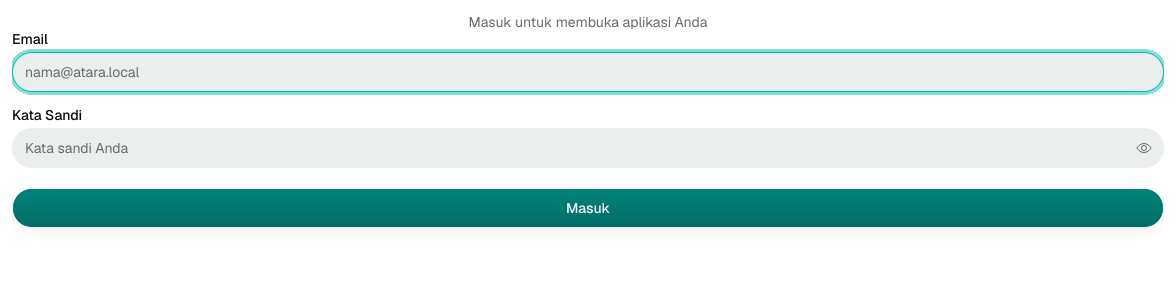
Test case: LoginForm › announces a failure rather than only recolouring it
The width and height of the screenshot is (1176, 299).
Type "admin@atara.local" into the field labelled "Email". click: (588, 72)
box: [12,52,1164,92]
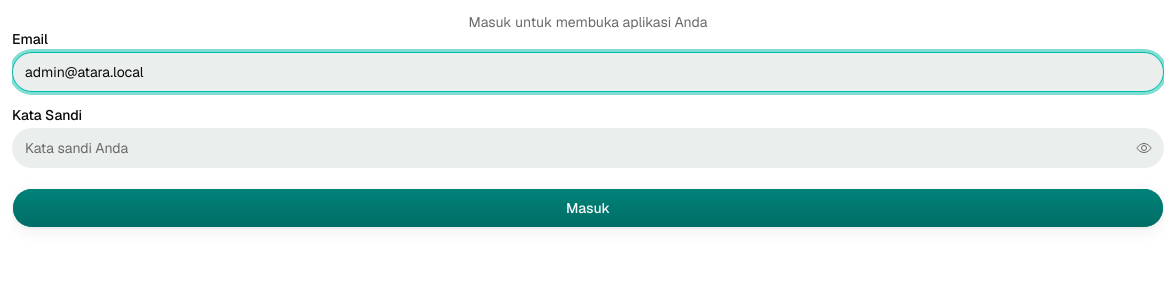
Type "wrong" into the password field labelled "Kata Sandi". click: (588, 148)
box: [12,128,1164,168]
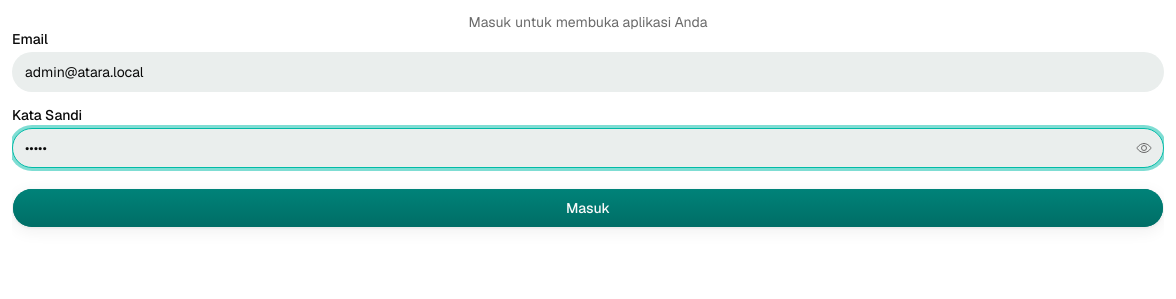
Click the button "Masuk". click: (588, 208)
box: [12,188,1164,228]
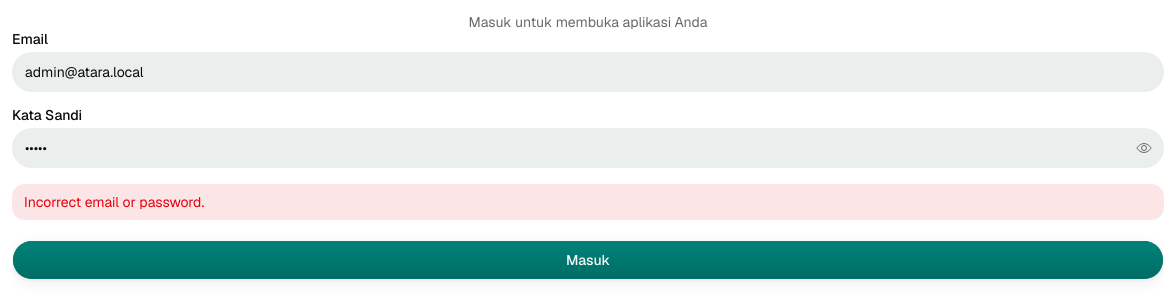
Now the message reads "Incorrect email or password.", box [24,193,204,211]
